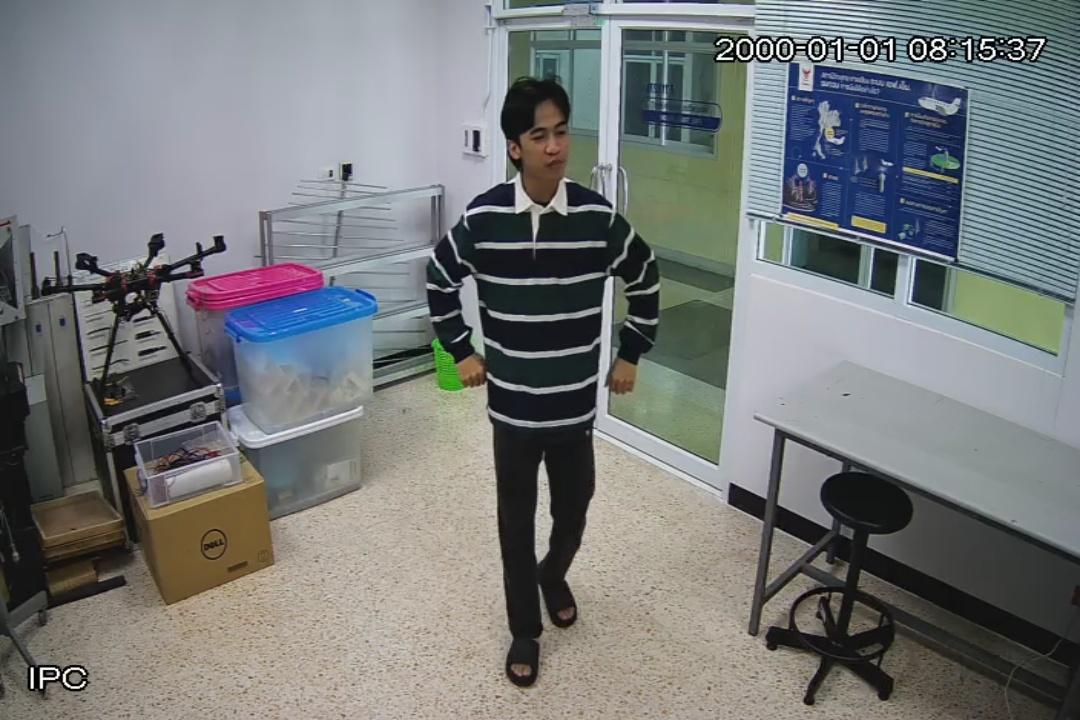normal: (420, 67, 667, 690)
